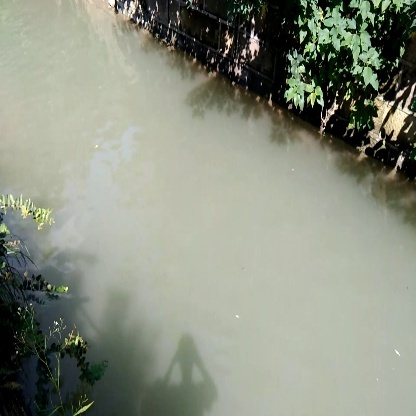grass: (289, 13, 375, 120)
